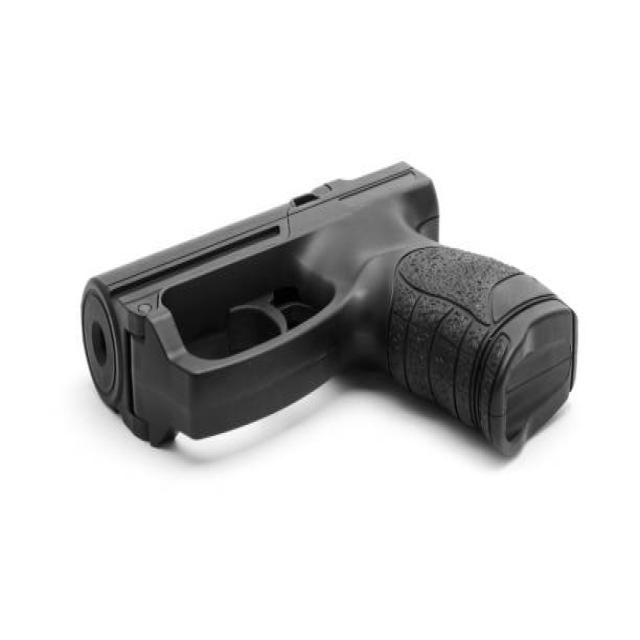pistol: (76, 151, 583, 477)
